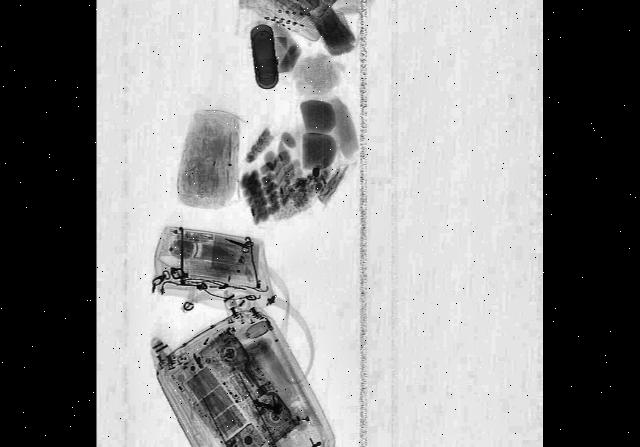Scissors: (224, 230, 254, 257)
